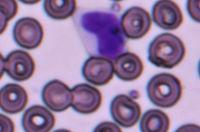M: (74, 6, 128, 62)
